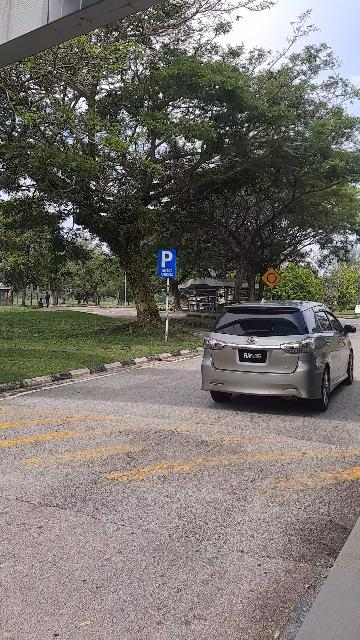License_Plate: (238, 350, 270, 365)
car: (200, 299, 359, 414)
